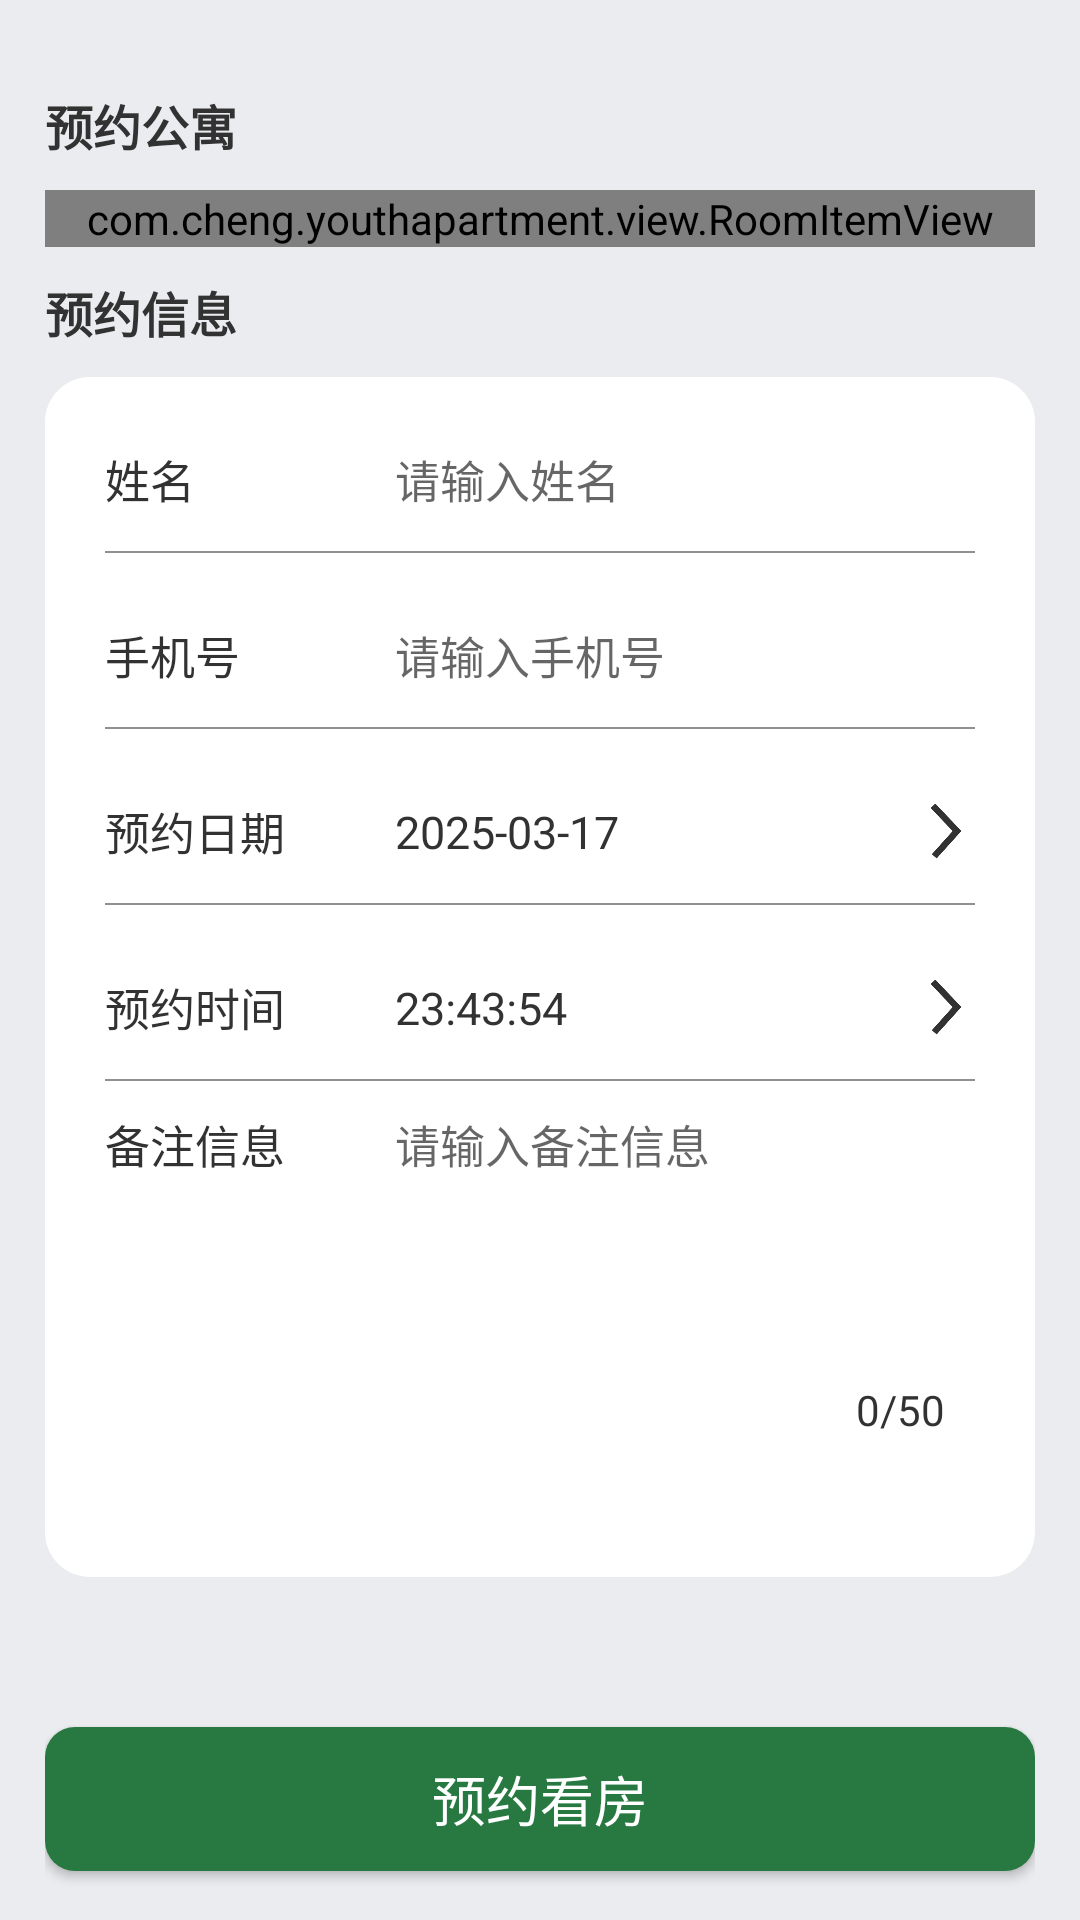

Icon click points for this 1080x1920 phone screenshot, format (x,y):
right arrow: (946,831), (946,1007)
